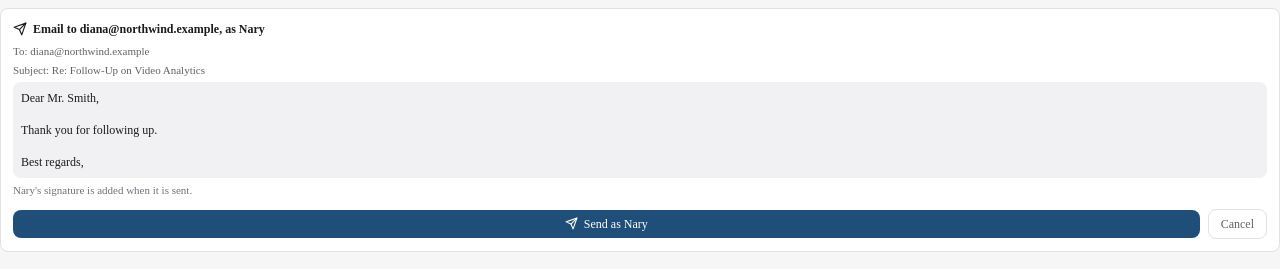
Test: send-as-Nary card in the chat › shows the exact text and sends nothing until Send as Nary is clicked
The image size is (1280, 269).
Check: the text "Dear Mr. Smith, Thank you for following up. Best regards," is shown, box [13,82,1267,178]
Check: the text "Subject: Re: Follow-Up on Video Analytics" is shown, box [13,64,205,76]
Click the button "Send as Nary": {"x": 606, "y": 224} [13,210,1200,238]
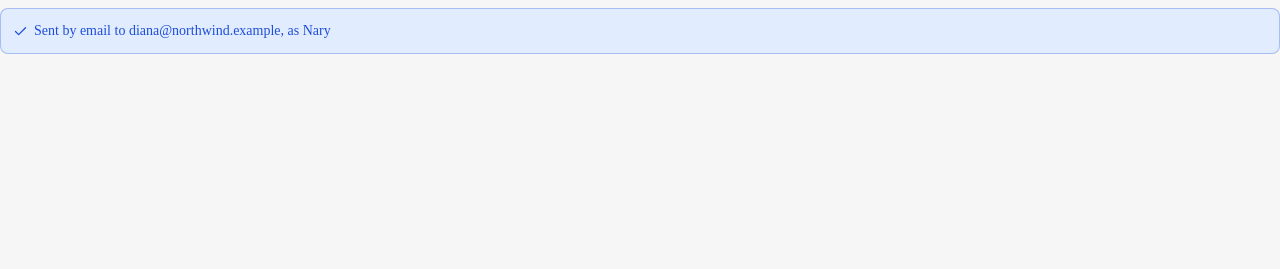
Check: the text "Sent by email to diana@northwind.example, as Nary" is shown, box [13,23,331,38]
